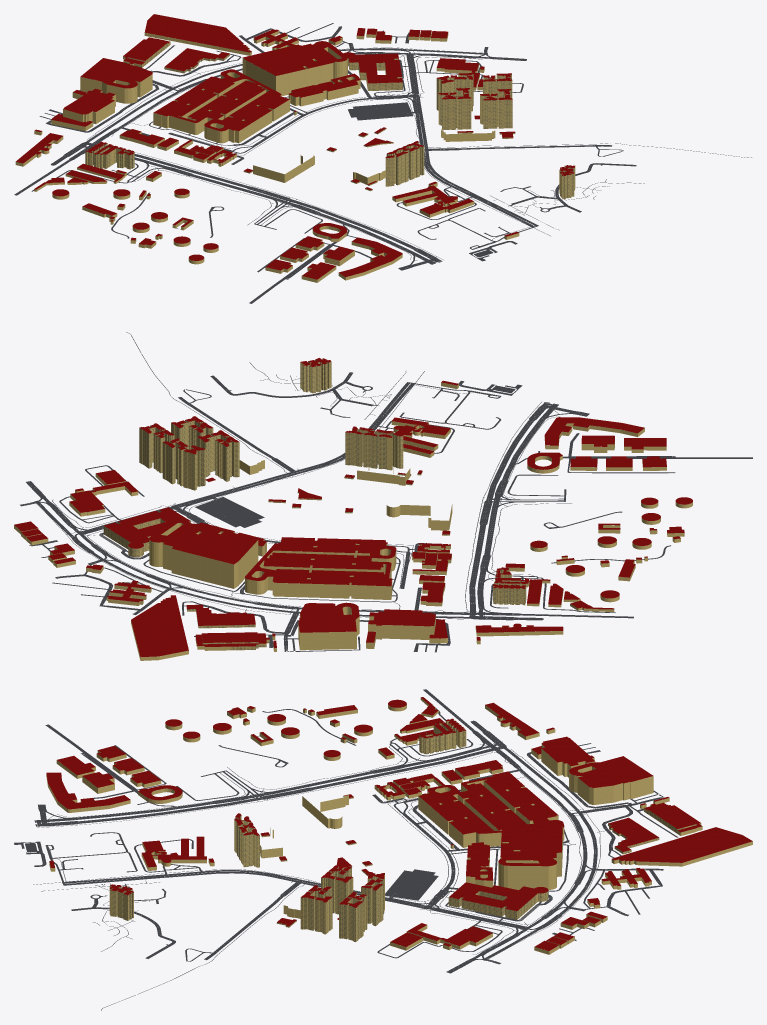
Rendered from osm3d.glb.
3 renders of one model, top to bottom at view 1: azimuth 30°, elevation 25°; view 2: azimuth 150°, elevation 25°; view 3: azimuth 270°, elevation 25°, orthographic. The views are drawn at different scales.
Parts seen in each view (by area): view 1: RoofingTiles010, Plaster002, ASPHALT, Windows; view 2: RoofingTiles010, Plaster002, ASPHALT, Windows, Concrete034; view 3: RoofingTiles010, Plaster002, ASPHALT, Windows, Concrete034.
Part boxes in pixels (x1,y1,x2,y2): RoofingTiles010: (16,14,574,279); Plaster002: (15,30,575,282); ASPHALT: (14,23,751,303); Windows: (85,43,573,198); RoofingTiles010: (14,358,692,657); Plaster002: (14,359,692,660); ASPHALT: (20,332,752,652); Windows: (104,362,525,649); Concrete034: (36,396,559,614); RoofingTiles010: (46,697,752,950); Plaster002: (46,698,752,954); ASPHALT: (14,689,678,1010); Windows: (110,721,696,941); Concrete034: (37,741,600,959).
Bounding box in the file's own units: 1410 × 72.51 × 1369.
16 materials, 16 textured.
